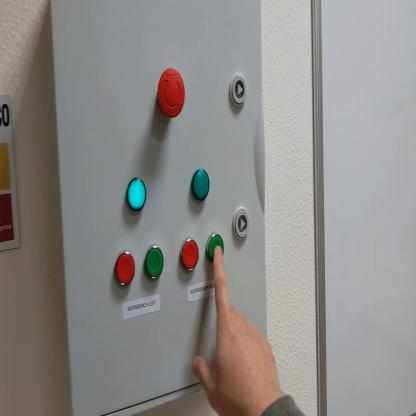hand: (193, 244, 280, 413)
left green button: (145, 245, 165, 285)
left red button: (115, 252, 137, 291)
right green button: (212, 232, 228, 264)
right red button: (182, 238, 200, 274)
